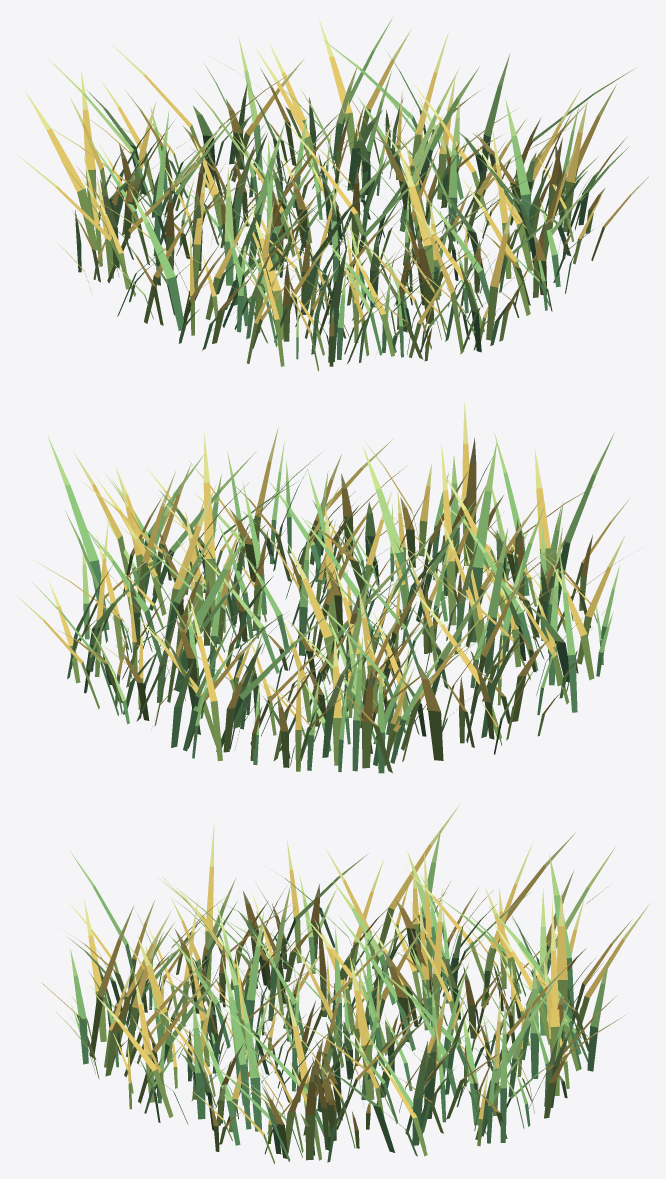
The model's file is Grass_03_Golden.glb.
3 renders of one model, top to bottom at view 1: azimuth 30°, elevation 25°; view 2: azimuth 150°, elevation 25°; view 3: azimuth 270°, elevation 25°, orthographic. The views are drawn at different scales.
Visible parts, largest first — view 1: Grass_03_Golden; view 2: Grass_03_Golden; view 3: Grass_03_Golden.
Part boxes in pixels (<box>): Grass_03_Golden: <box>16,16,648,371</box>; Grass_03_Golden: <box>15,403,641,773</box>; Grass_03_Golden: <box>42,804,650,1163</box>.
Size of the model in its own units: 2.46 by 0.6721 by 2.47.
